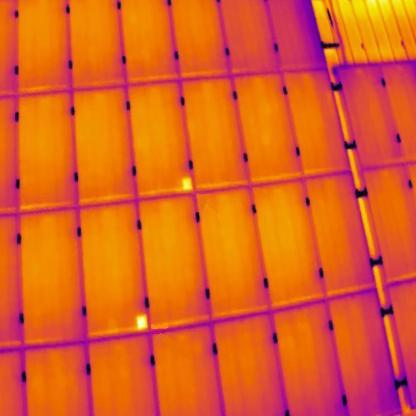anomaly: (135, 312, 149, 331), (180, 174, 193, 192)
